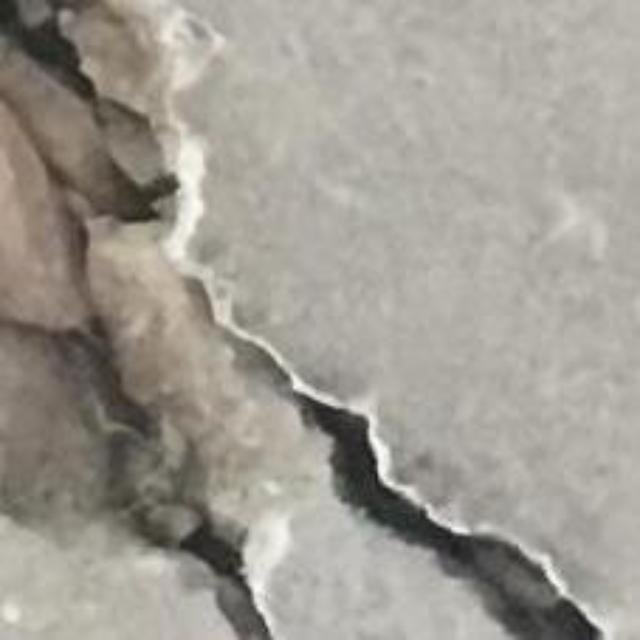crack: (0, 0, 597, 639)
